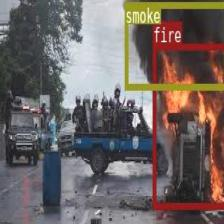fire: (152, 43, 224, 208)
smoke: (124, 1, 224, 88)
